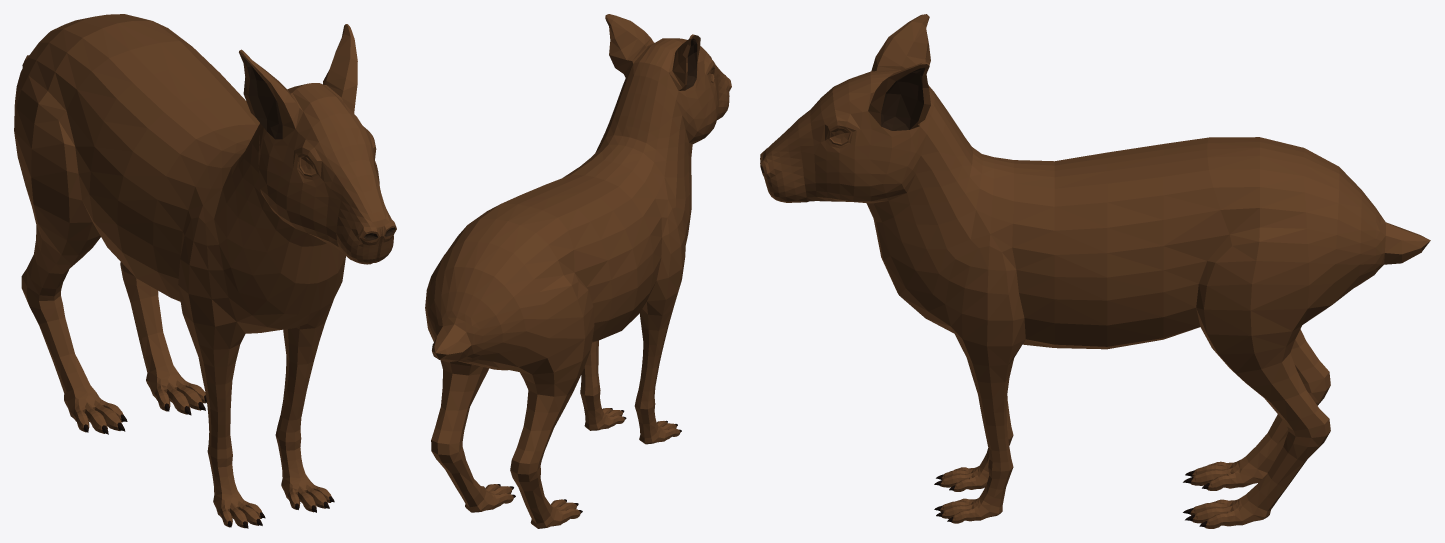
Rendered from cavy_patagonian_cavy_triangulated.obj.
The picture shows the model from 3 angles, left to right: view 1: azimuth 30°, elevation 25°; view 2: azimuth 150°, elevation 25°; view 3: azimuth 270°, elevation 25°; orthographic projection. The views are drawn at different scales.
Bounding box in the file's own units: 0.2523 × 0.6481 × 0.8498.
